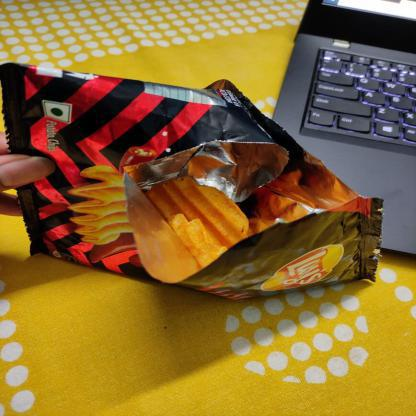max_chili: (1, 69, 384, 294)
